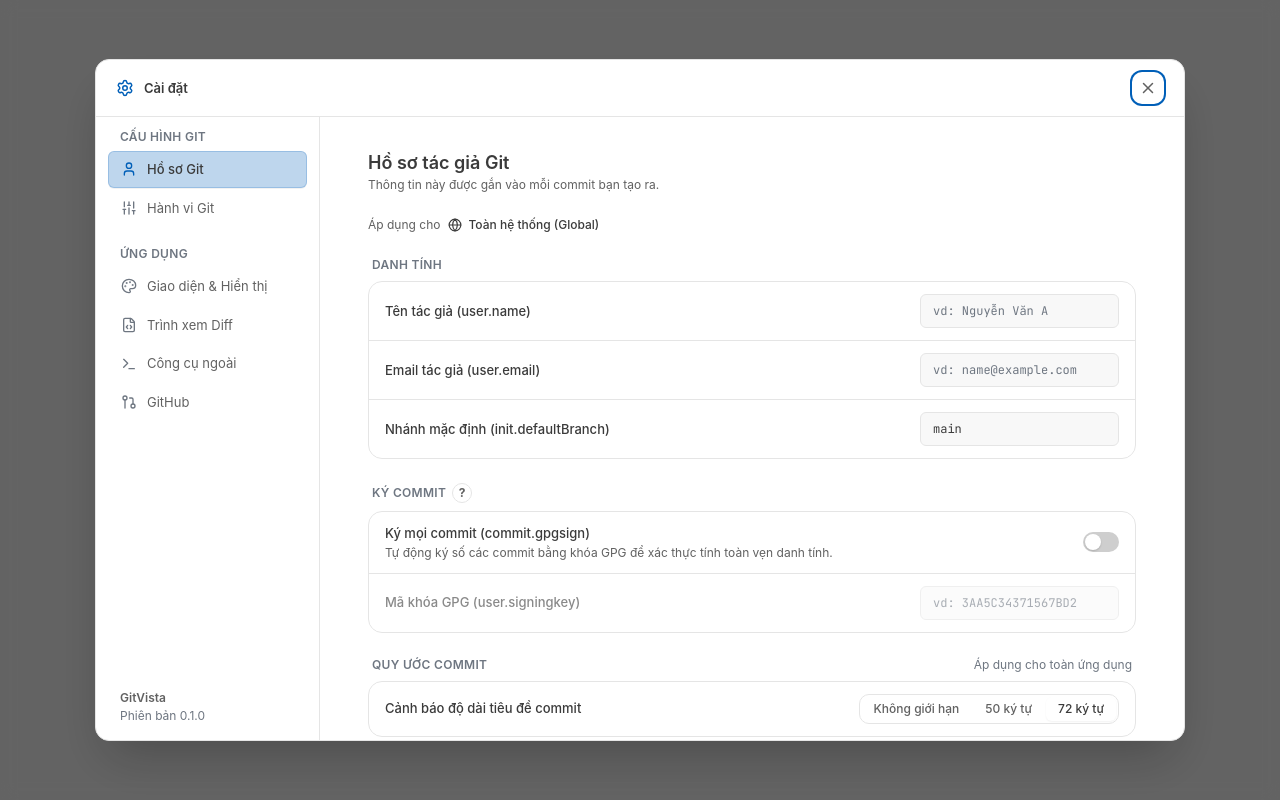
Scenario: SettingsModal - 2-Tier Settings Architecture › hiển thị đầy đủ 5 tab cài đặt (Profile, Appearance, Diff, Behavior, Tools) và chuyển tab thành công
The image size is (1280, 800).
Check: the button "Hồ sơ Git" is shown, box [108,151,307,188]
Check: the button "Trình xem Diff" is shown, box [108,307,307,343]
Click the button "Giao diện & Hiển thị" at (208, 286), box [108,268,307,305]
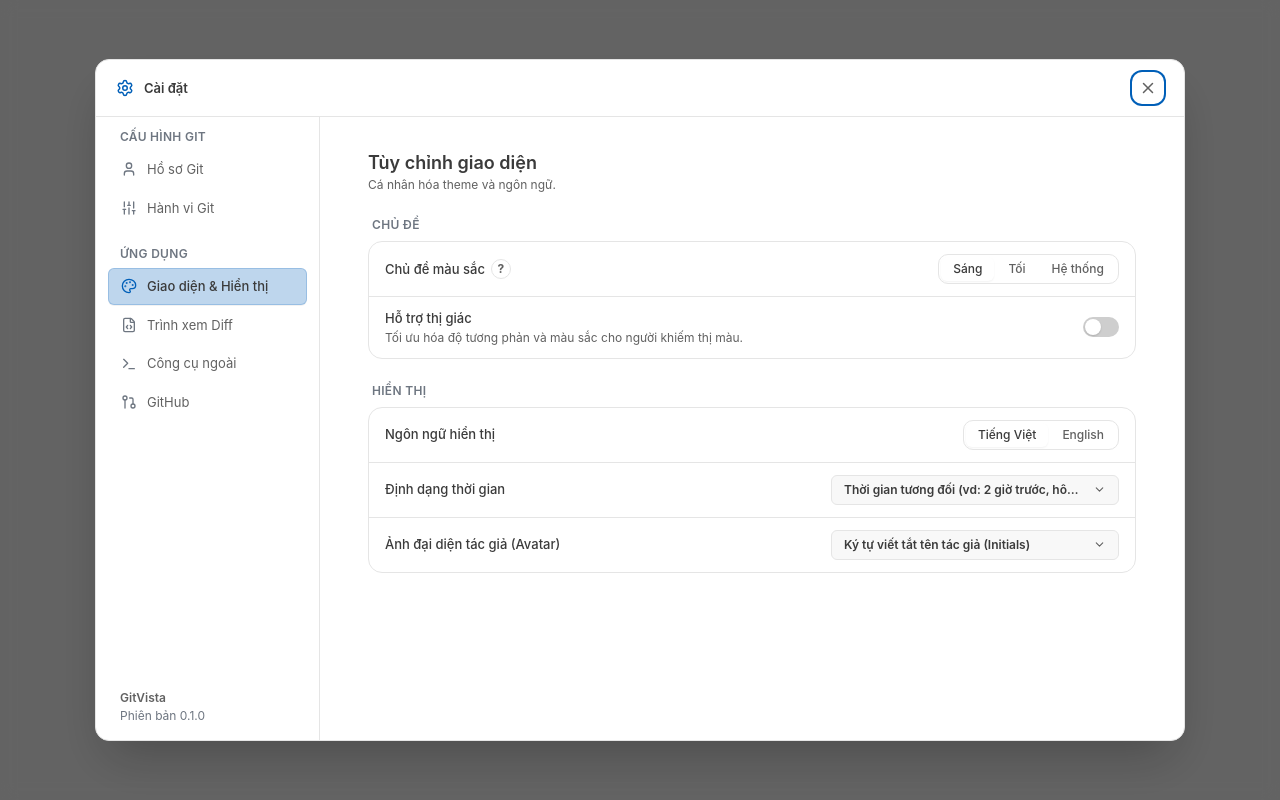
Check: the text "Định dạng thời gian" is shown, box [385,480,505,499]
Check: the text "Ảnh đại diện tác giả (Avatar)" is shown, box [385,535,560,554]
Click the button "Trình xem Diff" at (208, 325), box [108,307,307,343]
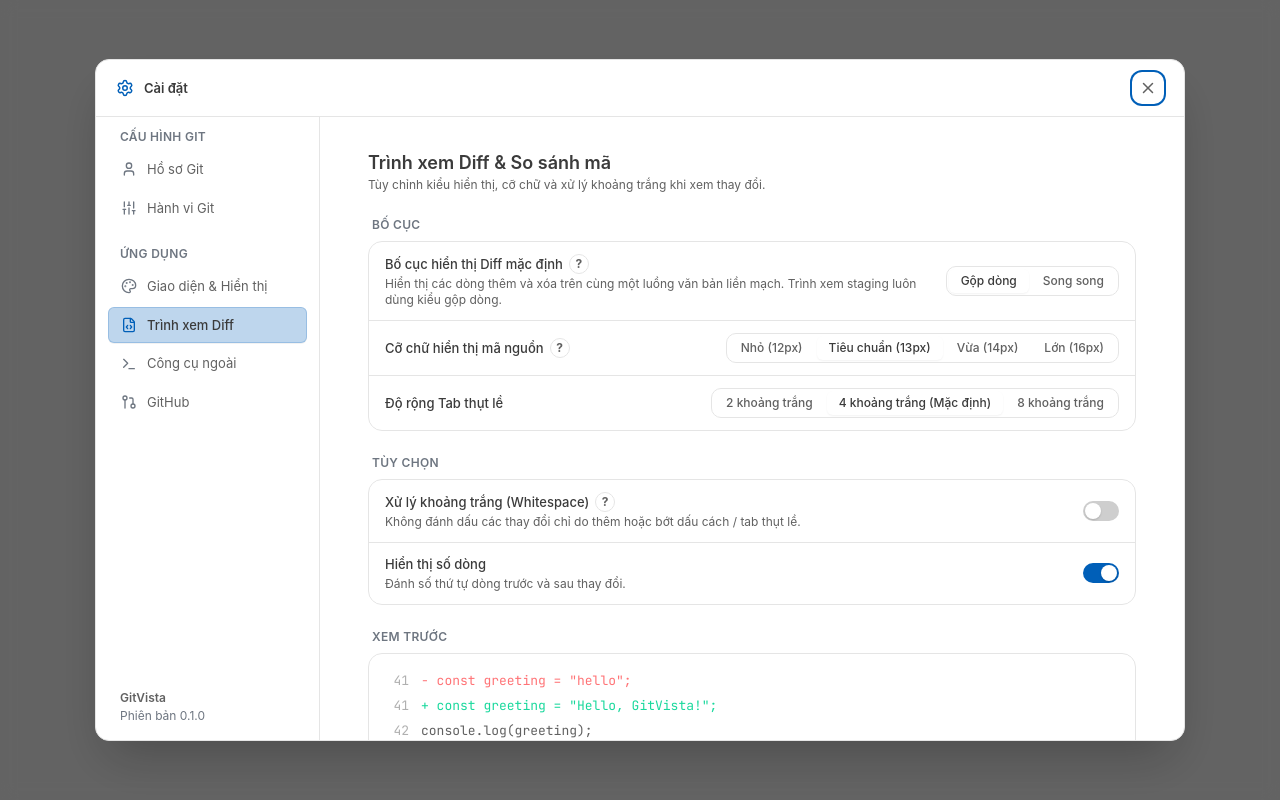
Check: the text "Bố cục hiển thị Diff mặc định" is shown, box [385,255,563,273]
Check: the text "Cỡ chữ hiển thị mã nguồn" is shown, box [385,339,544,357]
Click the button "Hành vi Git" at (208, 208), box [108,190,307,226]
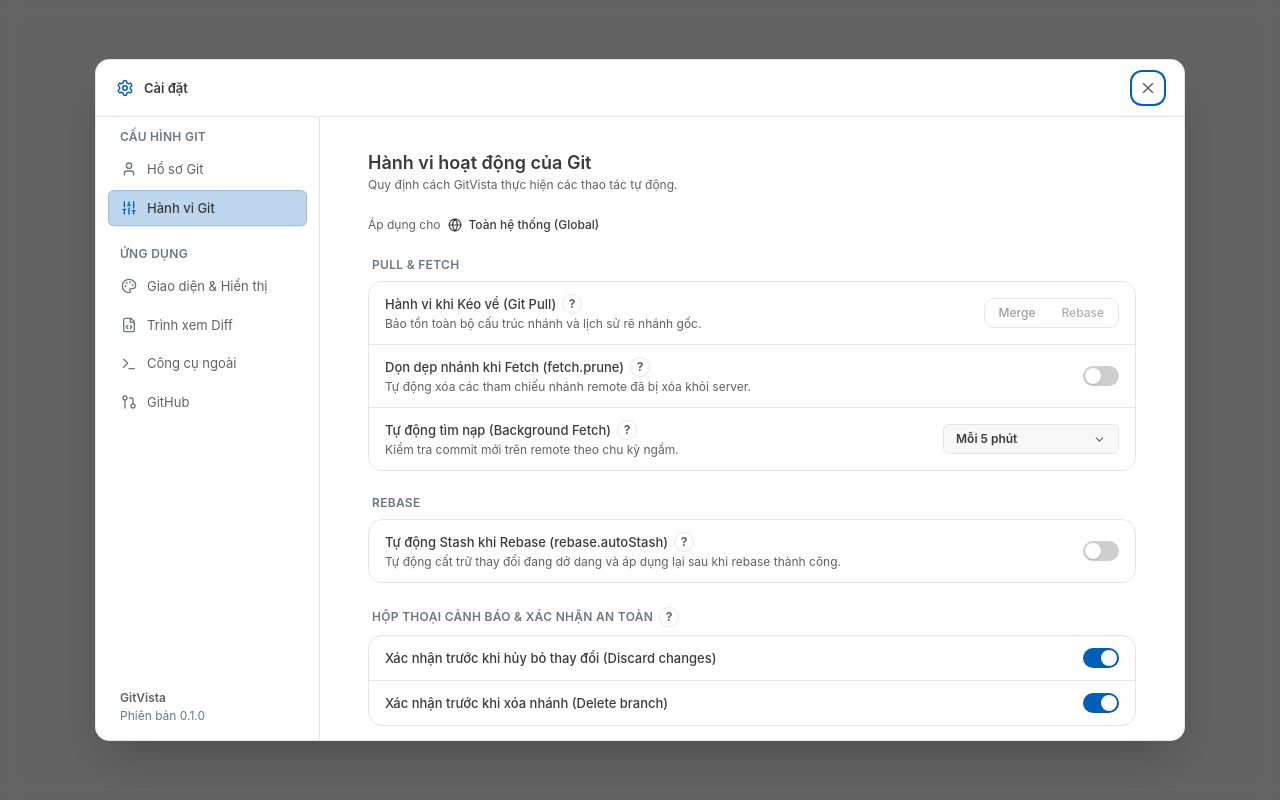
Check: the text "Hành vi khi Kéo về (Git Pull)" is shown, box [385,295,556,313]
Check: the heading "Hộp thoại cảnh báo & Xác nhận an toàn" is shown, box [372,609,653,625]
Click the button "Công cụ ngoài" at (208, 364), box [108,345,307,382]
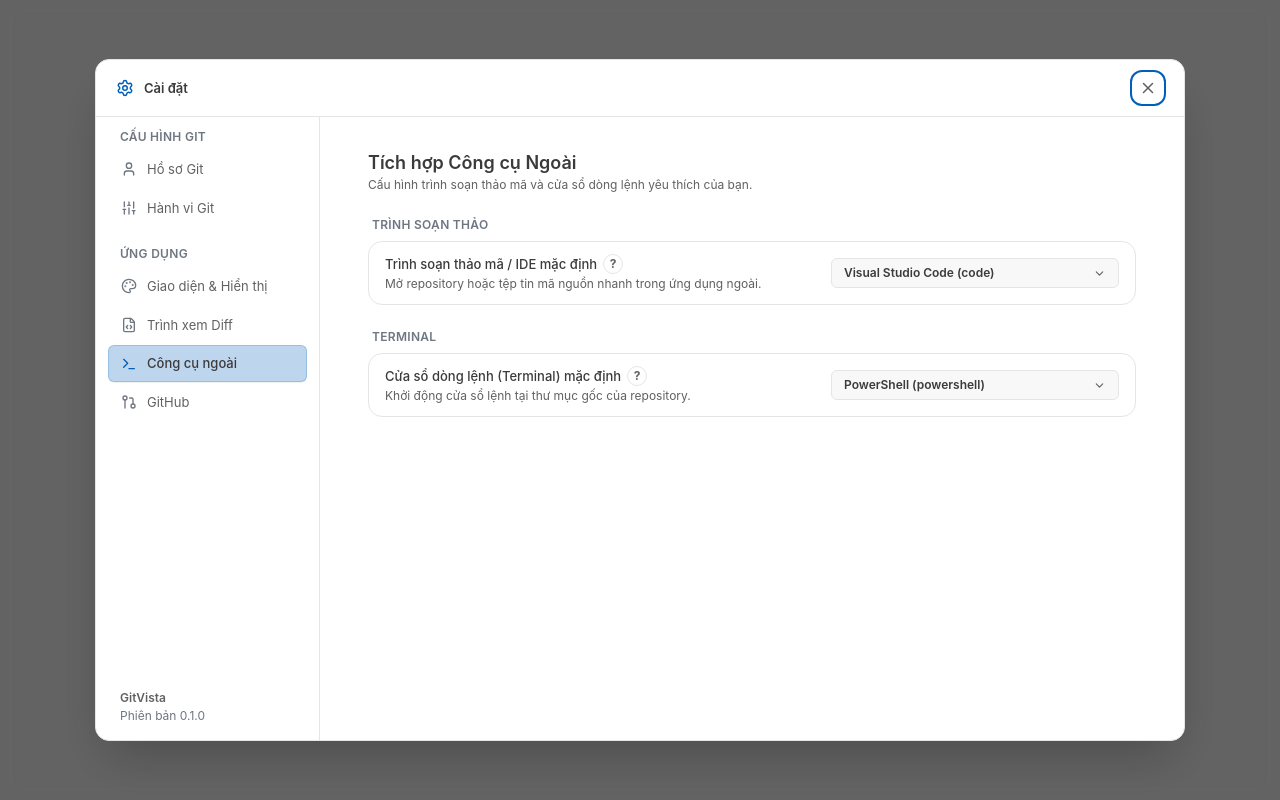
Check: the text "Trình soạn thảo mã / IDE mặc định" is shown, box [385,255,597,273]
Check: the text "Cửa sổ dòng lệnh (Terminal) mặc định" is shown, box [385,367,621,385]
